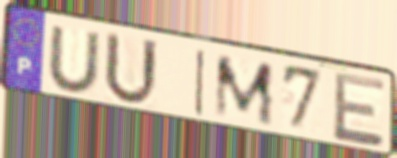7: (279, 62, 327, 137)
E: (332, 69, 388, 149)
I: (192, 46, 208, 119)
M: (212, 54, 276, 129)
U: (101, 29, 160, 109), (45, 23, 102, 97)
